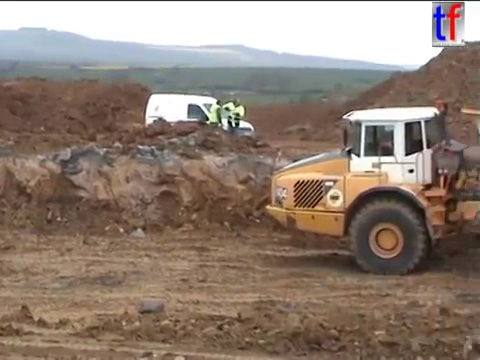truck: (261, 97, 480, 278)
worker: (222, 95, 246, 143), (208, 97, 225, 142)
